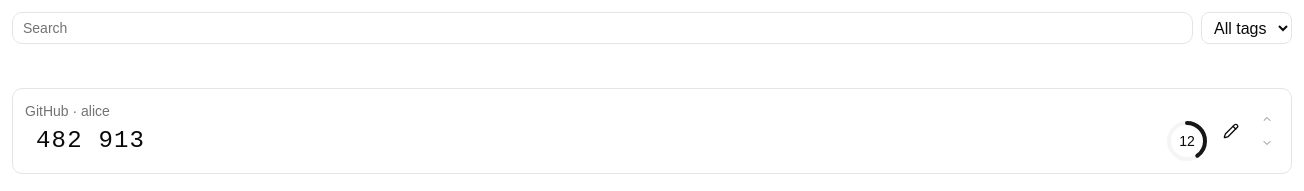
EntryList › copies the raw code and confirms it
Step 1. Click the button named "Copy code for GitHub" → (91, 141), box [25,125,156,157]
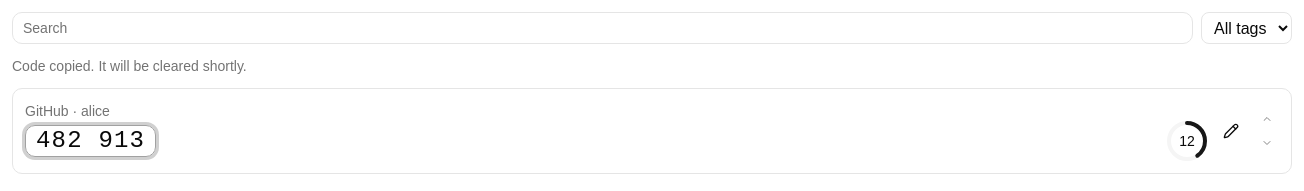
Check: the message shows "Code copied", box [12,58,247,74]
